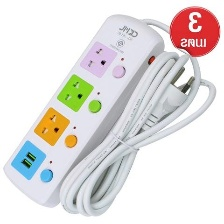three_eye_plug: (0, 11, 168, 210)
